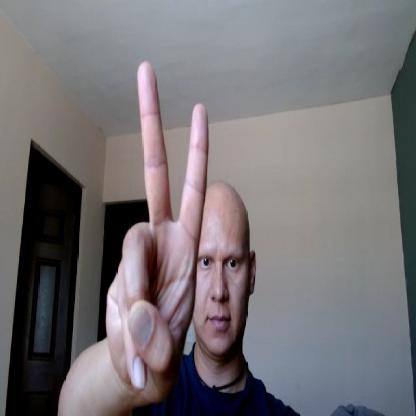V: (106, 58, 209, 402)
